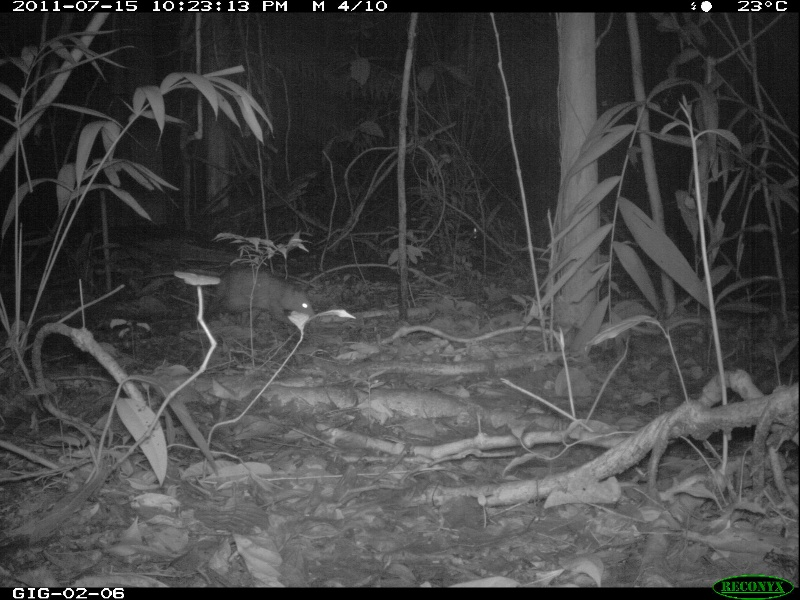opossum: (182, 266, 319, 323)
